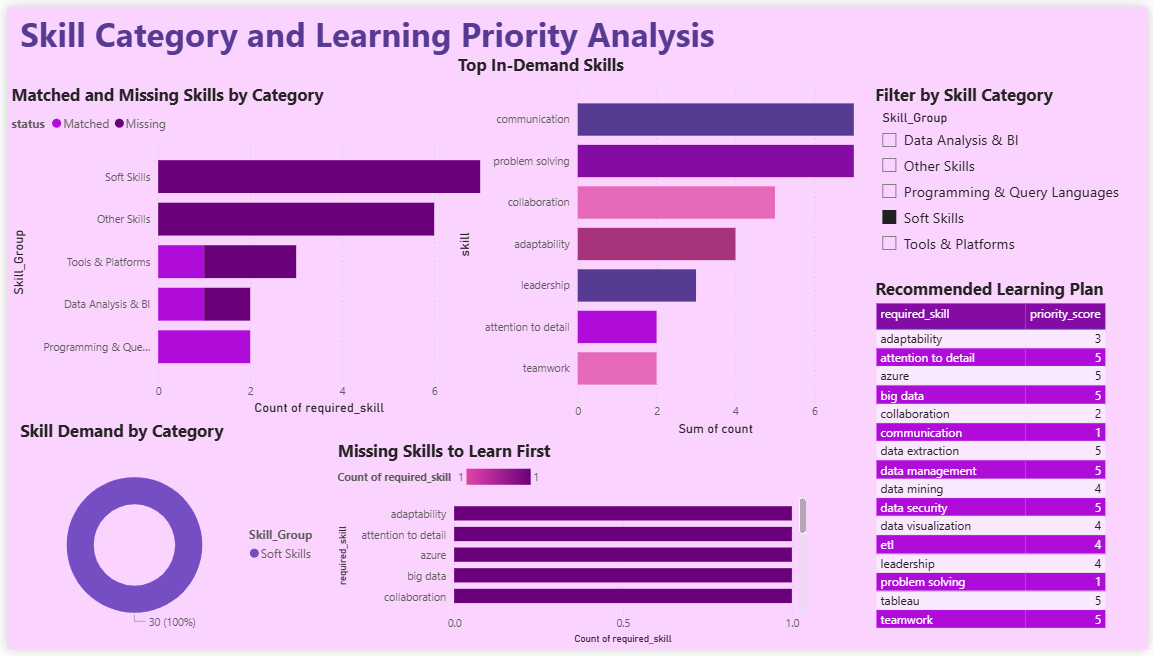

The dashboard page shown, as its layout file describes it:
{"tool":"powerbi","page":{"name":"Skill Category and Learning Priority Analysis","canvas":[1280,720],"ordinal":2},"visuals":[{"type":"textbox","box":[10,0,864.3,62.9],"z":0},{"type":"donutChart","title":"Skill Demand by Category","fields":{"Category":["TopDataScienceSkills.Skill_Group"],"Y":["Sum(TopDataScienceSkills.count)"]},"box":[10,462.9,355.7,257.1],"z":1000},{"type":"clusteredBarChart","title":"Top In-Demand Skills","fields":{"Category":["TopDataScienceSkills.skill"],"Y":["Sum(TopDataScienceSkills.count)"]},"box":[500,51.4,458.6,434.3],"z":2000},{"type":"barChart","title":"Matched and Missing Skills by Category","fields":{"Category":["SkillGap.Skill_Group"],"Y":["CountNonNull(SkillGap.required_skill)"],"Series":["SkillGap.status"]},"box":[0,85.7,540,377.1],"z":3000},{"type":"clusteredBarChart","title":"Missing Skills to Learn First","fields":{"Category":["SkillGap.required_skill"],"Y":["CountNonNull(SkillGap.required_skill)"]},"box":[365.7,485.7,535.7,234.3],"z":4000},{"type":"tableEx","title":"Recommended Learning Plan","fields":{"Values":["Recommendations.required_skill","Recommendations.priority_score"]},"box":[968.6,302.9,280,401.4],"z":5000},{"type":"slicer","title":"Filter by Skill Category","fields":{"Values":["TopDataScienceSkills.Skill_Group"]},"box":[968.6,85.7,311.4,201.4],"z":6000}]}

Visuals, with their boxes in screenshot pixels (x1, y1, x2, y2), scaled from the page's 1280x720 canvas onto the 1153x656 screenshot:
textbox: [9, 0, 788, 57]
"Skill Demand by Category" donutChart: [9, 422, 329, 655]
"Top In-Demand Skills" clusteredBarChart: [450, 47, 863, 443]
"Matched and Missing Skills by Category" barChart: [0, 78, 486, 422]
"Missing Skills to Learn First" clusteredBarChart: [329, 443, 812, 655]
"Recommended Learning Plan" tableEx: [872, 276, 1125, 642]
"Filter by Skill Category" slicer: [872, 78, 1152, 262]
